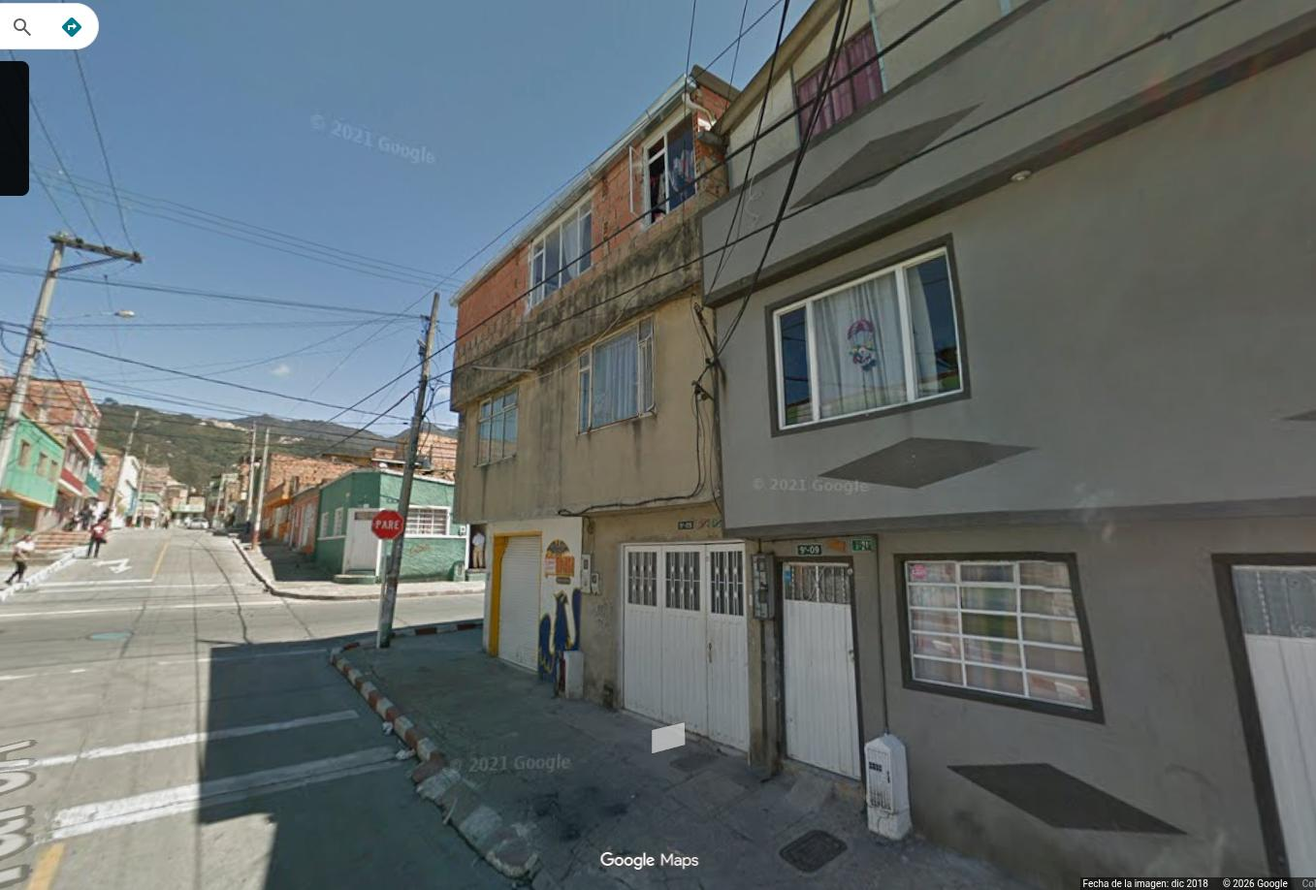casa: (702, 0, 1315, 887), (450, 66, 751, 747), (314, 468, 466, 582), (0, 416, 63, 553)
poste: (0, 233, 142, 487), (376, 294, 438, 647)
